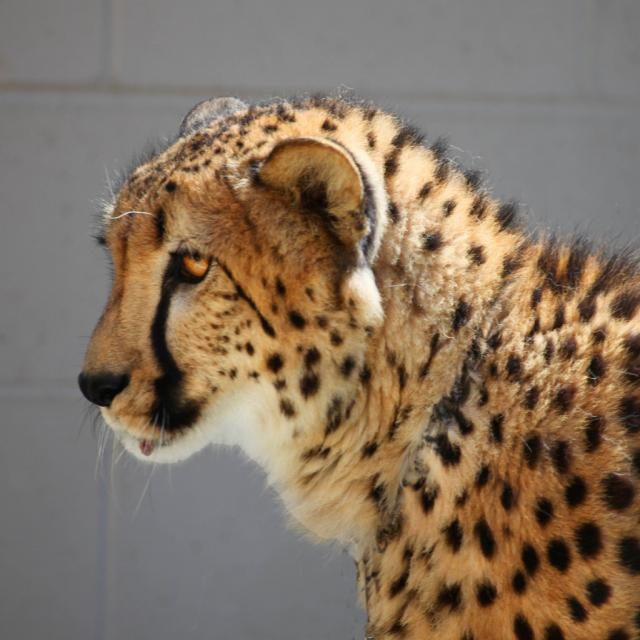Cheetah: (77, 90, 640, 640)
